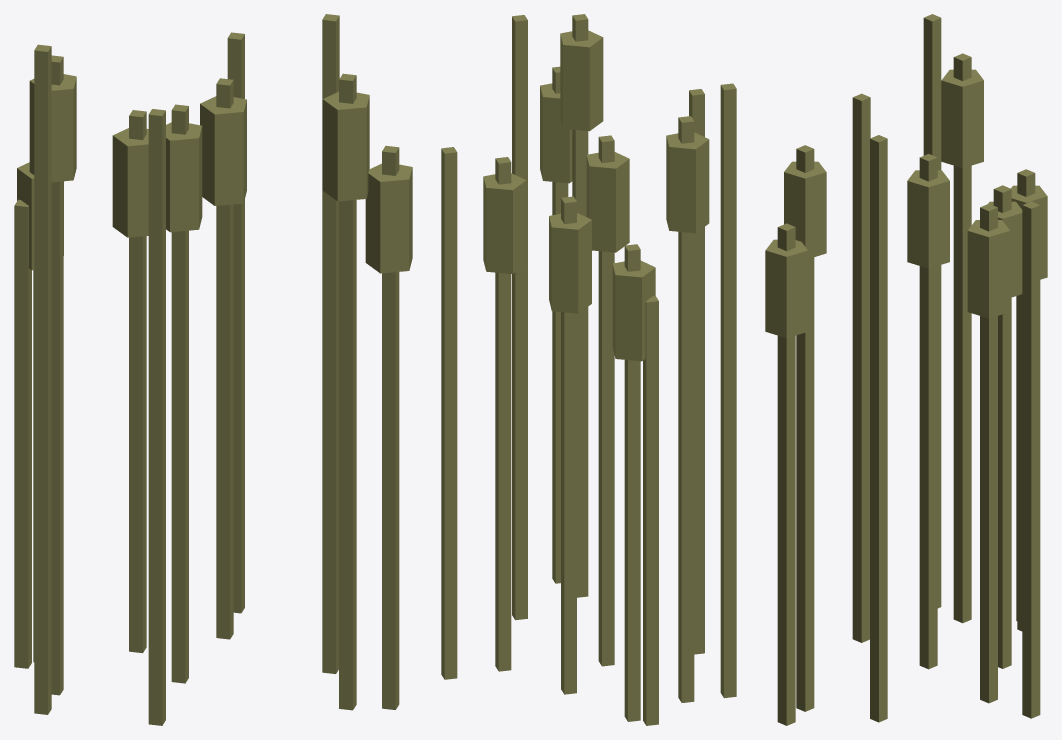
Rendered from reeds.fbx.
3 views of the same model, side by side, from view 1: azimuth 30°, elevation 25°; view 2: azimuth 150°, elevation 25°; view 3: azimuth 270°, elevation 25° (orthographic). The views are drawn at different scales.
Parts seen in each view (by area): view 1: reeds; view 2: reeds; view 3: reeds.
Boxes of the visible parts, x1,y1,x2,y2 form: reeds: (14, 14, 412, 725); reeds: (441, 14, 736, 725); reeds: (765, 14, 1047, 725).
Size of the model in its own units: 271 by 579 by 251.
